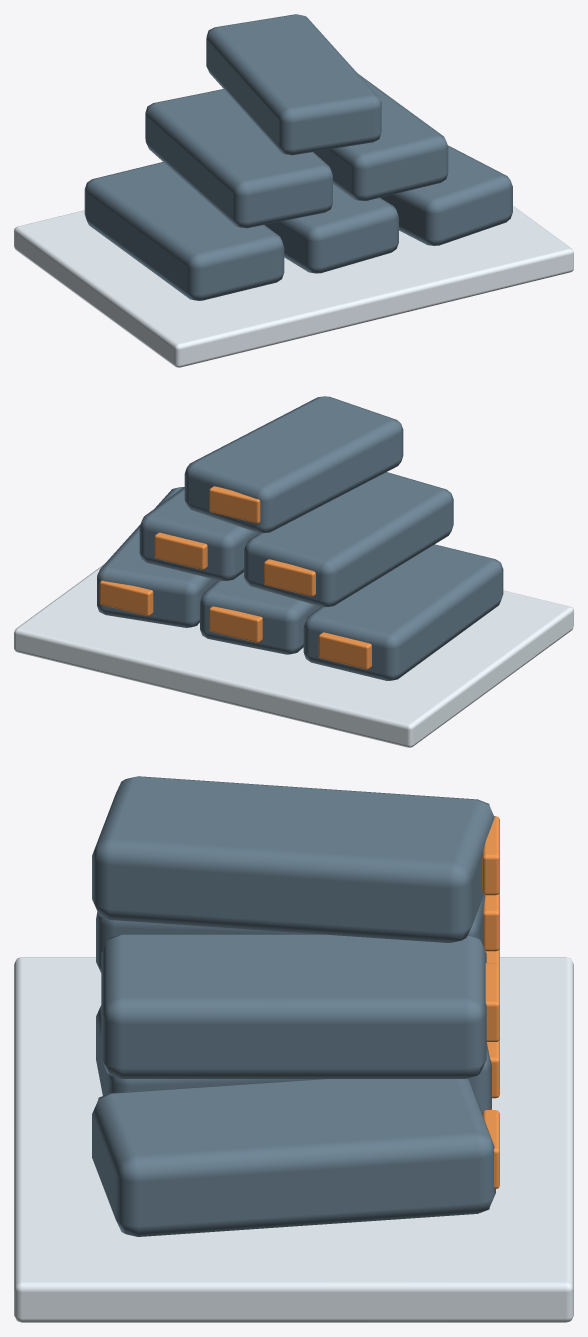
The model's file is metal_stack.glb.
3 views of the same model, one above another, from view 1: azimuth 30°, elevation 25°; view 2: azimuth 150°, elevation 25°; view 3: azimuth 270°, elevation 25° (orthographic). The views are drawn at different scales.
Parts seen in each view (by area): view 1: metal_stack; view 2: metal_stack; view 3: metal_stack.
Part boxes in pixels (bbox=[...]): metal_stack: bbox=[14, 14, 573, 367]; metal_stack: bbox=[14, 396, 573, 747]; metal_stack: bbox=[14, 776, 573, 1322].
Bounding box in the file's own units: 1.75 × 0.84 × 1.25.
